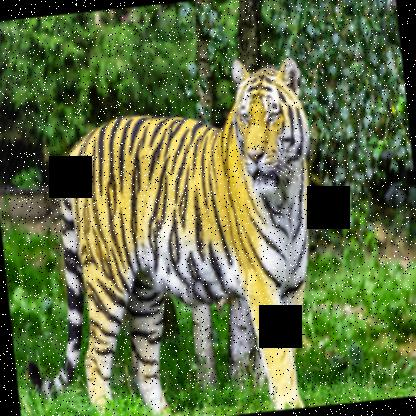Panthera tigris: (0, 50, 338, 415)
